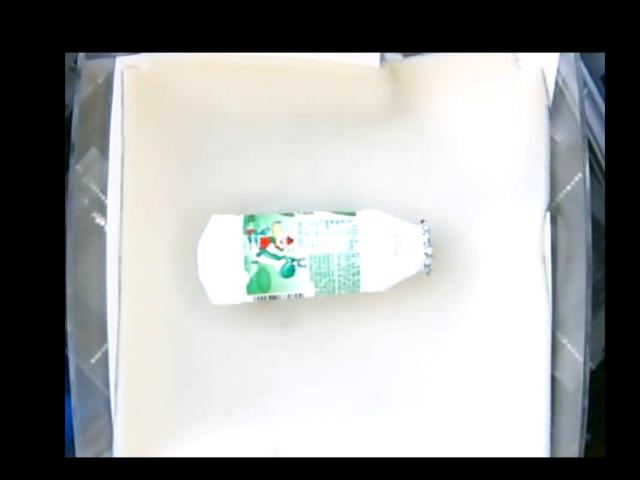Bottle: (200, 210, 432, 306)
